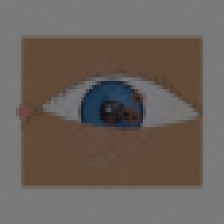foreign_body_visible: (121, 107, 147, 128)
